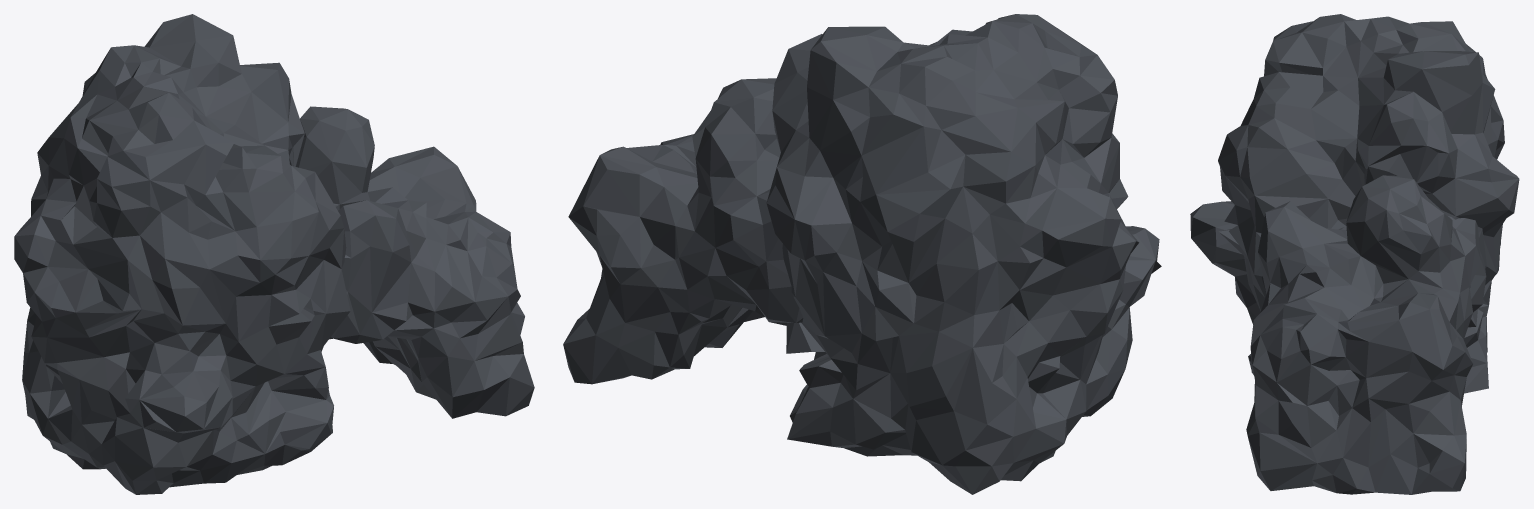
The model's file is Rock_Big_1.fbx.
3 renders of one model, left to right at view 1: azimuth 30°, elevation 25°; view 2: azimuth 150°, elevation 25°; view 3: azimuth 270°, elevation 25°, orthographic. The views are drawn at different scales.
Visible parts, largest first — view 1: polySurface534; view 2: polySurface534; view 3: polySurface534.
Part boxes in pixels (x1,y1,x2,y2): polySurface534: [14, 14, 534, 494]; polySurface534: [563, 14, 1161, 494]; polySurface534: [1190, 14, 1519, 494].
Bounding box in the file's own units: 1608 × 1275 × 1073.
